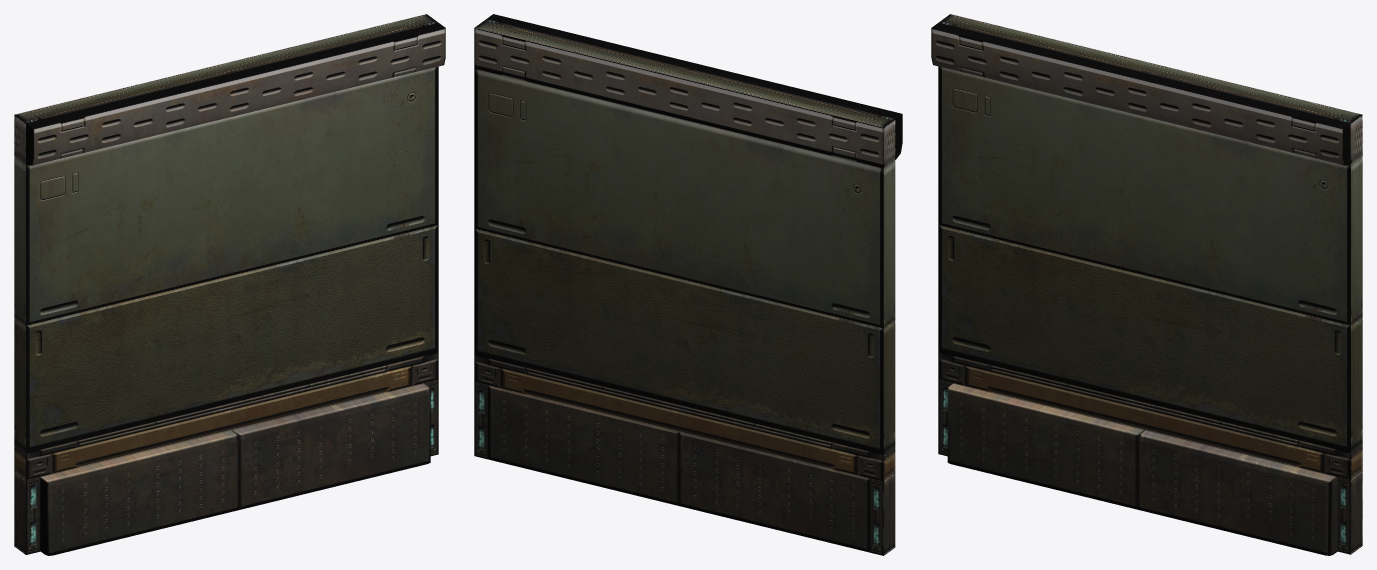
The model's file is ReactorRoom_Wall.FBX.
3 views of the same model, side by side, from view 1: azimuth 30°, elevation 25°; view 2: azimuth 150°, elevation 25°; view 3: azimuth 330°, elevation 25° (orthographic).
Parts seen in each view (by area): view 1: Wall_Reactor; view 2: Wall_Reactor; view 3: Wall_Reactor.
Part boxes in pixels (box(x1,y1,x2,y2)): Wall_Reactor: box(14, 14, 445, 555); Wall_Reactor: box(474, 14, 902, 555); Wall_Reactor: box(931, 14, 1362, 555).
Size of the model in its own units: 400 by 32 by 400.
